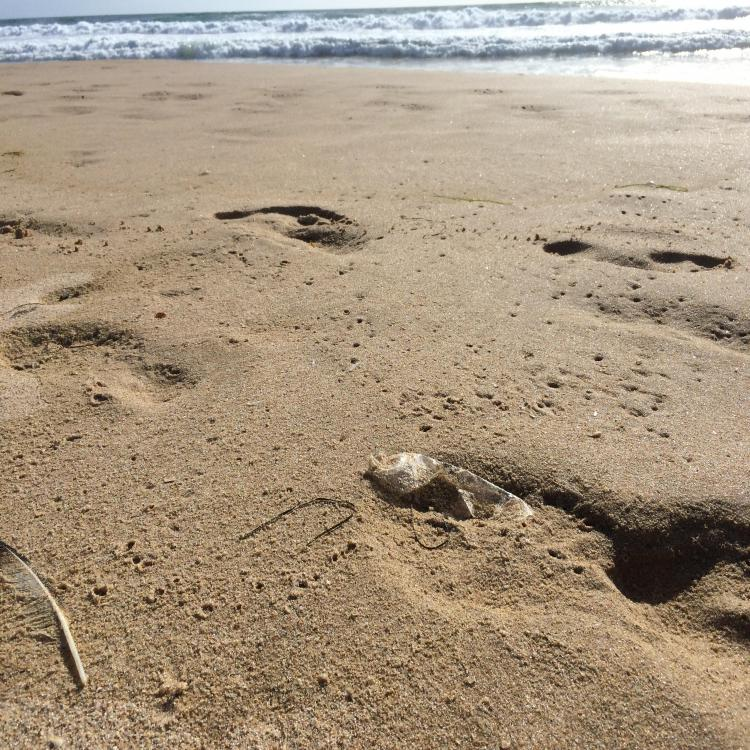Plastic film: (370, 450, 534, 519)
